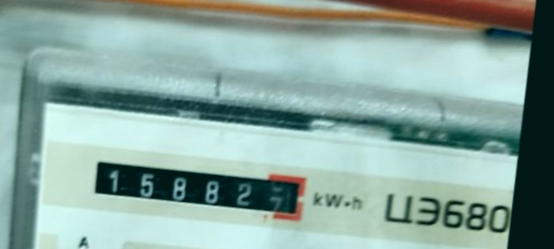1: (103, 170, 120, 197)
2: (233, 183, 250, 209)
5: (135, 173, 154, 201)
7: (265, 195, 281, 216)
8: (168, 178, 187, 205), (201, 181, 218, 207)
screen: (75, 146, 314, 236)
